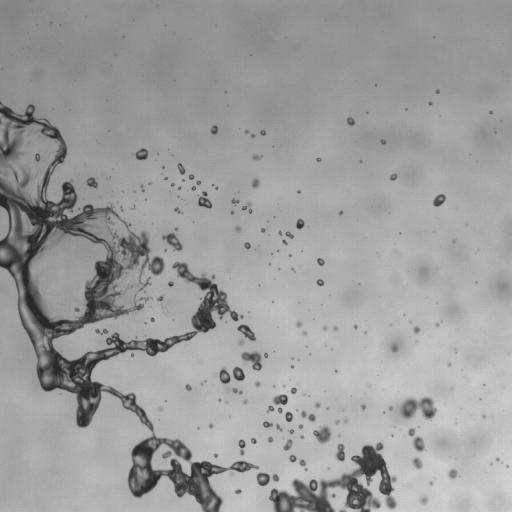droplet: (400, 396, 437, 420), (241, 351, 267, 370), (219, 366, 245, 383), (267, 394, 287, 413), (313, 425, 331, 443), (256, 472, 279, 486), (198, 191, 212, 208), (335, 443, 345, 461), (134, 148, 148, 159), (433, 194, 445, 206), (86, 177, 97, 188), (412, 457, 422, 469), (242, 202, 252, 212), (283, 439, 292, 450), (448, 469, 457, 478), (296, 219, 304, 229), (346, 117, 354, 125), (252, 178, 259, 187), (285, 412, 292, 421), (262, 421, 272, 427), (285, 231, 293, 238), (420, 496, 427, 504), (211, 125, 217, 134), (252, 154, 261, 160), (390, 173, 397, 180), (317, 258, 324, 265), (174, 207, 181, 213), (316, 279, 323, 285), (413, 326, 419, 333), (35, 153, 40, 161), (244, 242, 250, 248), (296, 321, 302, 327), (238, 339, 244, 345), (391, 345, 397, 351), (254, 381, 260, 387), (185, 384, 191, 390), (290, 388, 296, 394), (231, 199, 238, 204), (235, 226, 241, 231), (157, 296, 163, 301), (276, 424, 281, 430), (260, 130, 265, 135), (189, 174, 194, 179), (168, 281, 173, 286), (315, 402, 320, 407), (268, 437, 273, 442), (251, 438, 256, 443), (361, 404, 365, 410), (235, 489, 241, 493), (140, 185, 144, 190), (191, 186, 196, 190), (150, 317, 154, 322), (333, 326, 338, 330), (343, 418, 347, 423), (289, 429, 293, 434), (381, 139, 385, 143), (196, 180, 200, 184), (261, 228, 265, 232), (278, 231, 282, 235), (283, 240, 287, 244), (436, 322, 440, 326), (323, 326, 327, 330), (302, 331, 306, 335), (243, 400, 247, 404), (335, 420, 339, 424), (213, 453, 217, 457), (316, 158, 320, 161), (339, 211, 343, 214), (389, 406, 392, 410), (209, 424, 212, 428), (436, 90, 439, 93), (245, 130, 248, 133), (251, 134, 254, 137), (297, 190, 300, 193), (120, 207, 123, 210), (354, 325, 357, 328), (158, 407, 161, 410), (299, 425, 302, 428), (429, 482, 432, 485), (428, 102, 431, 104), (489, 111, 492, 113), (164, 177, 167, 179), (171, 183, 174, 185), (214, 186, 217, 188), (231, 211, 233, 214), (175, 227, 177, 230), (291, 365, 293, 368), (201, 382, 204, 384), (482, 415, 485, 417), (300, 436, 303, 438), (496, 458, 499, 460), (131, 354, 133, 356), (448, 363, 450, 365)
ligament: (0, 101, 258, 511), (269, 443, 397, 511), (408, 428, 425, 451), (162, 233, 182, 250), (237, 324, 255, 340), (289, 454, 307, 470), (300, 411, 315, 421), (238, 439, 245, 455), (177, 163, 185, 174), (95, 329, 107, 334), (232, 388, 242, 394), (140, 296, 150, 301)
